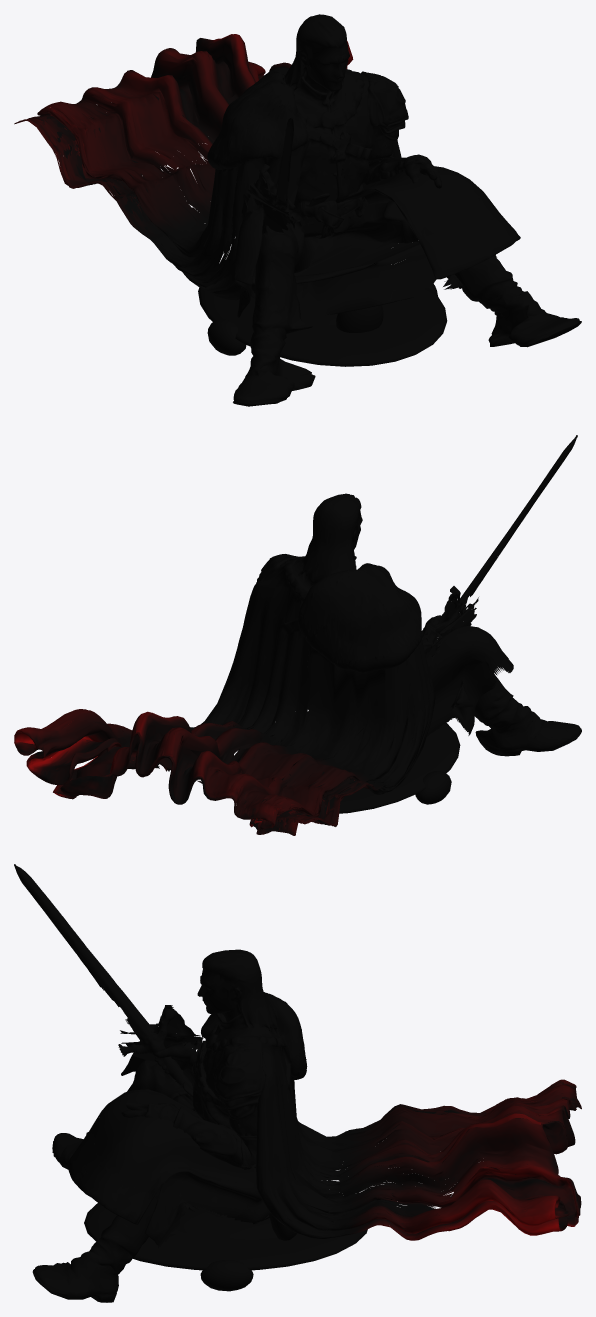
File: rider_knight.glb
3 renders of one model, top to bottom at view 1: azimuth 30°, elevation 25°; view 2: azimuth 150°, elevation 25°; view 3: azimuth 270°, elevation 25°, orthographic. The views are drawn at different scales.
Visible parts, largest first — view 1: Knight; view 2: Knight; view 3: Knight.
Part boxes in pixels (x1,y1,x2,y2): Knight: (14,14,581,406); Knight: (14,435,581,835); Knight: (14,864,581,1302).
Size of the model in its own units: 1.42 by 1.24 by 2.02.
Materials: 2 (1 with a texture image).
